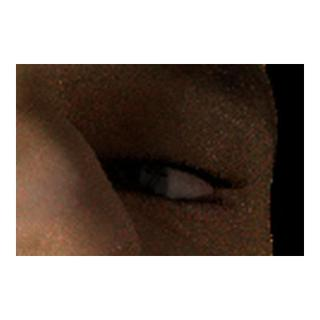pupil: (112, 164, 149, 201)
